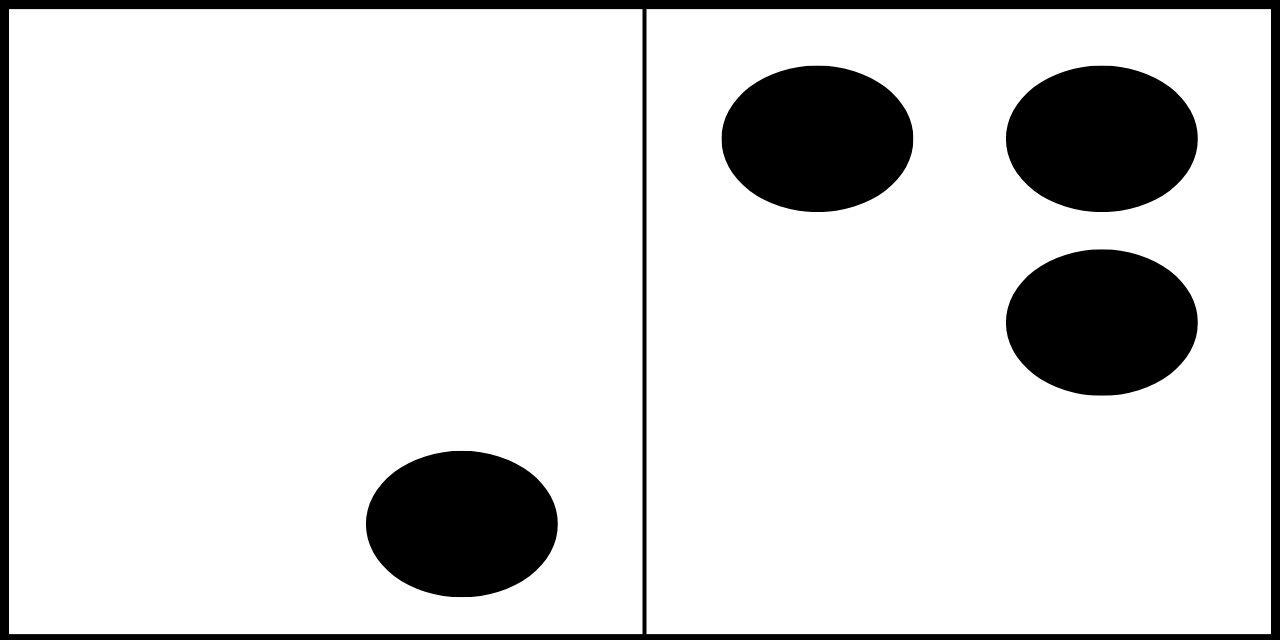capital_sign: (100, 62, 555, 596)
letter_D: (721, 61, 1198, 595)
